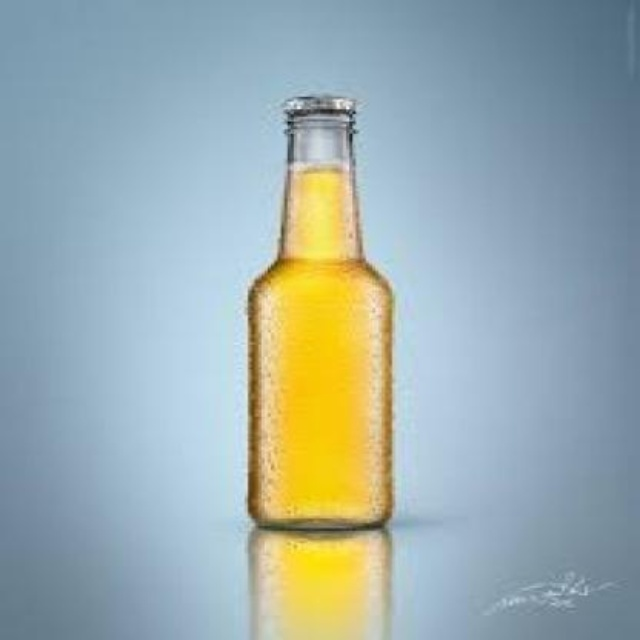trash: (248, 97, 391, 528)
